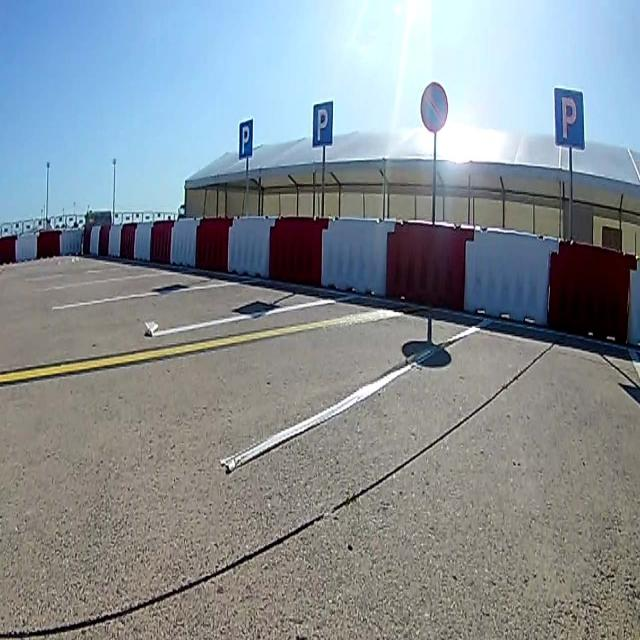park: (553, 85, 583, 147), (312, 101, 332, 144), (239, 118, 253, 158)
parkyasak: (420, 83, 450, 130)
